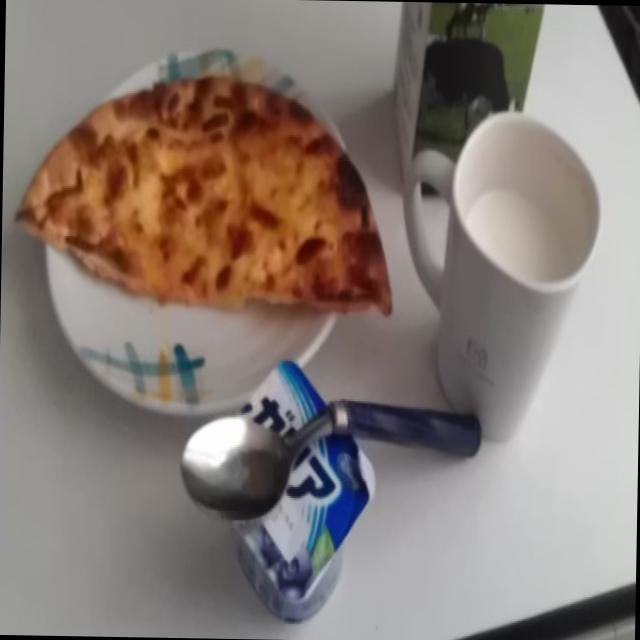Pizza: (22, 19, 404, 330)
